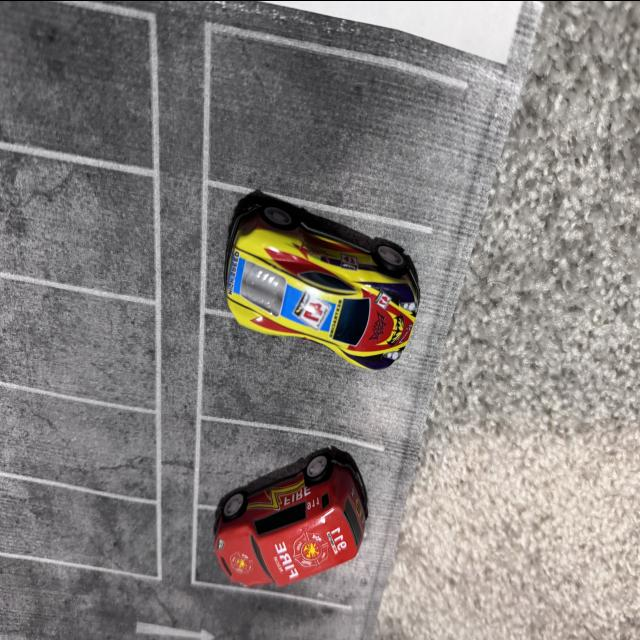Car: (191, 172, 417, 380), (196, 427, 386, 591)
